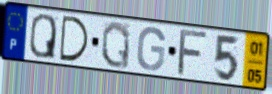5: (211, 33, 241, 83)
D: (58, 14, 91, 64)
F: (175, 28, 211, 78)
G: (135, 25, 167, 73)
Q: (100, 20, 132, 71), (28, 13, 58, 62)
